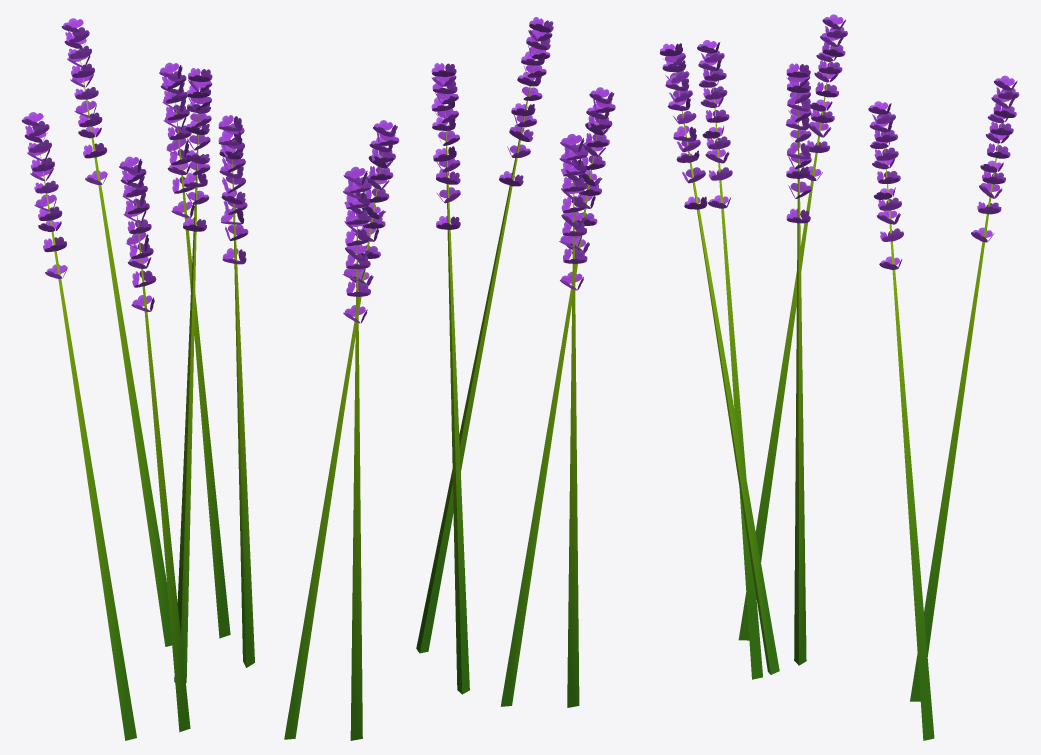
File: flower 1.fbx
3 renders of one model, left to right at view 1: azimuth 30°, elevation 25°; view 2: azimuth 150°, elevation 25°; view 3: azimuth 270°, elevation 25°, orthographic. The views are drawn at different scales.
Visible parts, largest first — view 1: Lavender3; view 2: Lavender3; view 3: Lavender3.
Part boxes in pixels (x1,y1,x2,y2): Lavender3: (21, 18, 254, 740); Lavender3: (284, 17, 615, 740); Lavender3: (660, 14, 1019, 740).
Size of the model in its own units: 14.04 by 33.67 by 17.87.
Materials: 1 (1 with a texture image).
